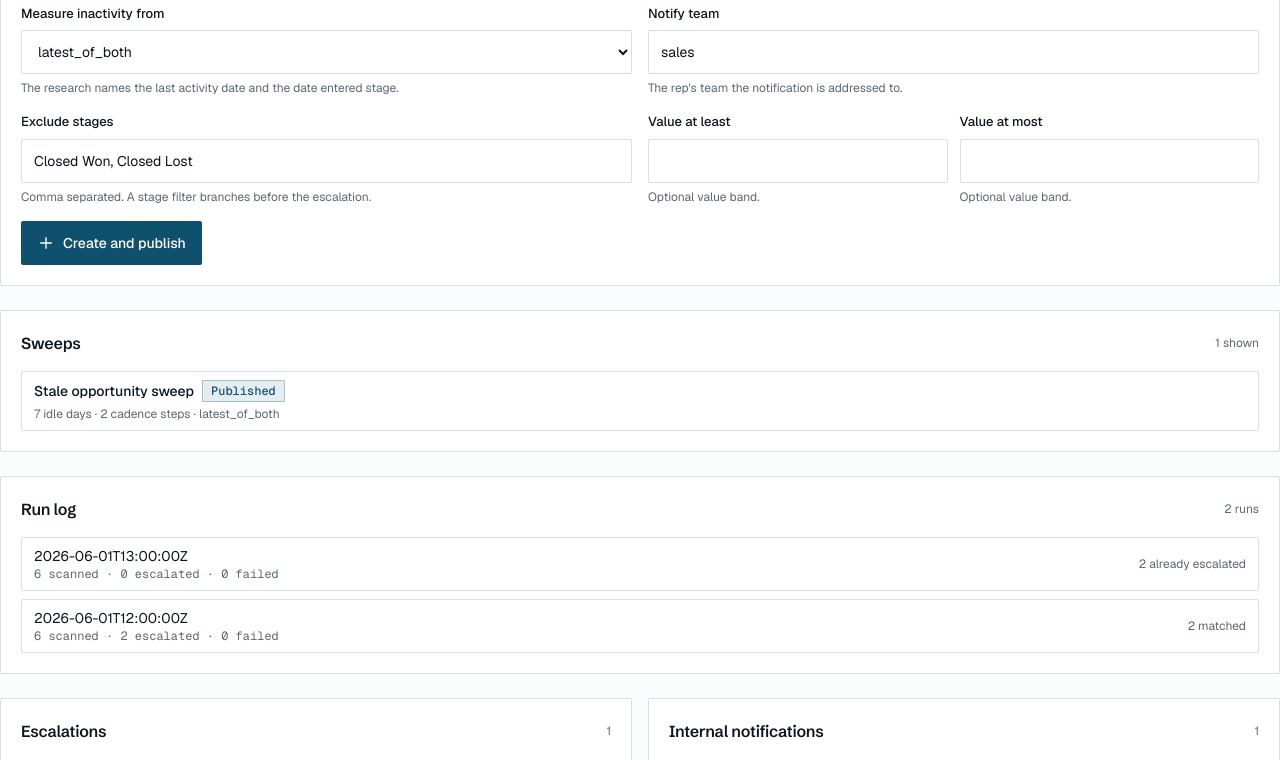
Test case: the page › lists a sweep and shows its rule once selected
(page scrolled)
Click the button "Stale opportunity sweep" at (114,391), box [21,371,1259,431]
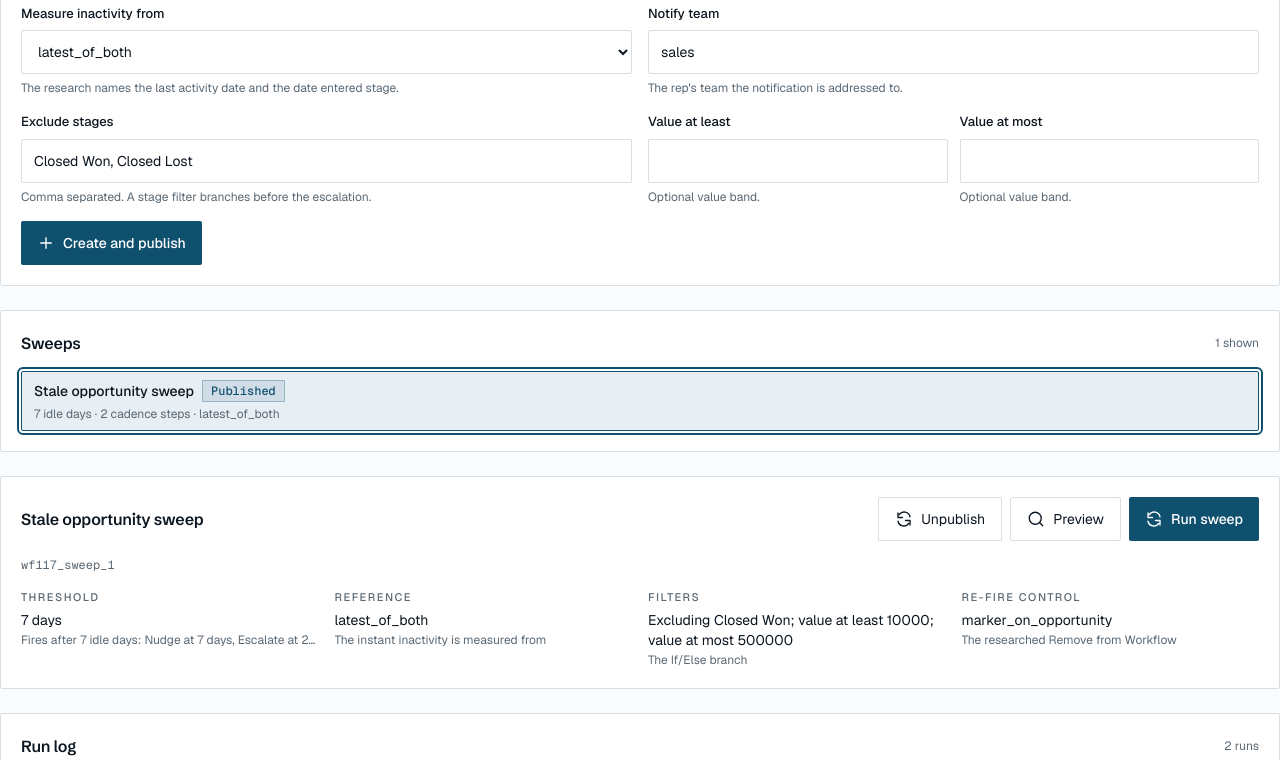
Now the text "Re-fire control" is shown, box [962,590,1081,604]
Now the button "Run sweep" is shown, box [1129,497,1259,541]
Now the button "Preview" is shown, box [1010,497,1121,541]
